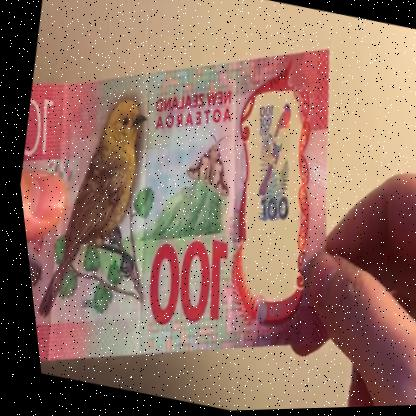100B: (221, 95, 317, 273)
